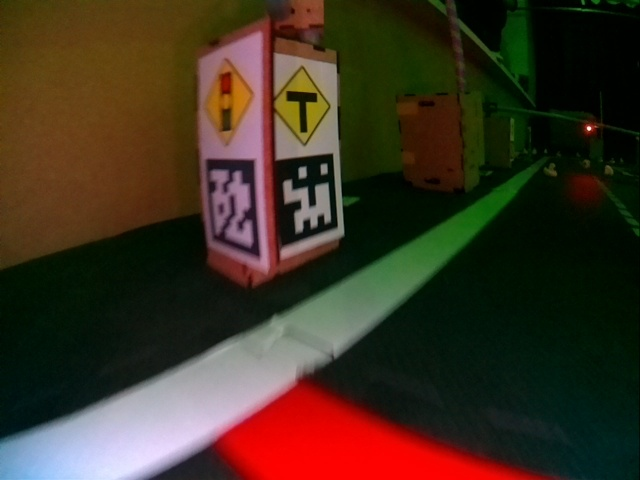Duckie: (580, 158, 590, 168), (605, 166, 614, 175)
Intersection sign: (274, 64, 333, 148)
QR code: (274, 153, 340, 249), (204, 155, 261, 264)
Signal sign: (200, 57, 258, 150)
